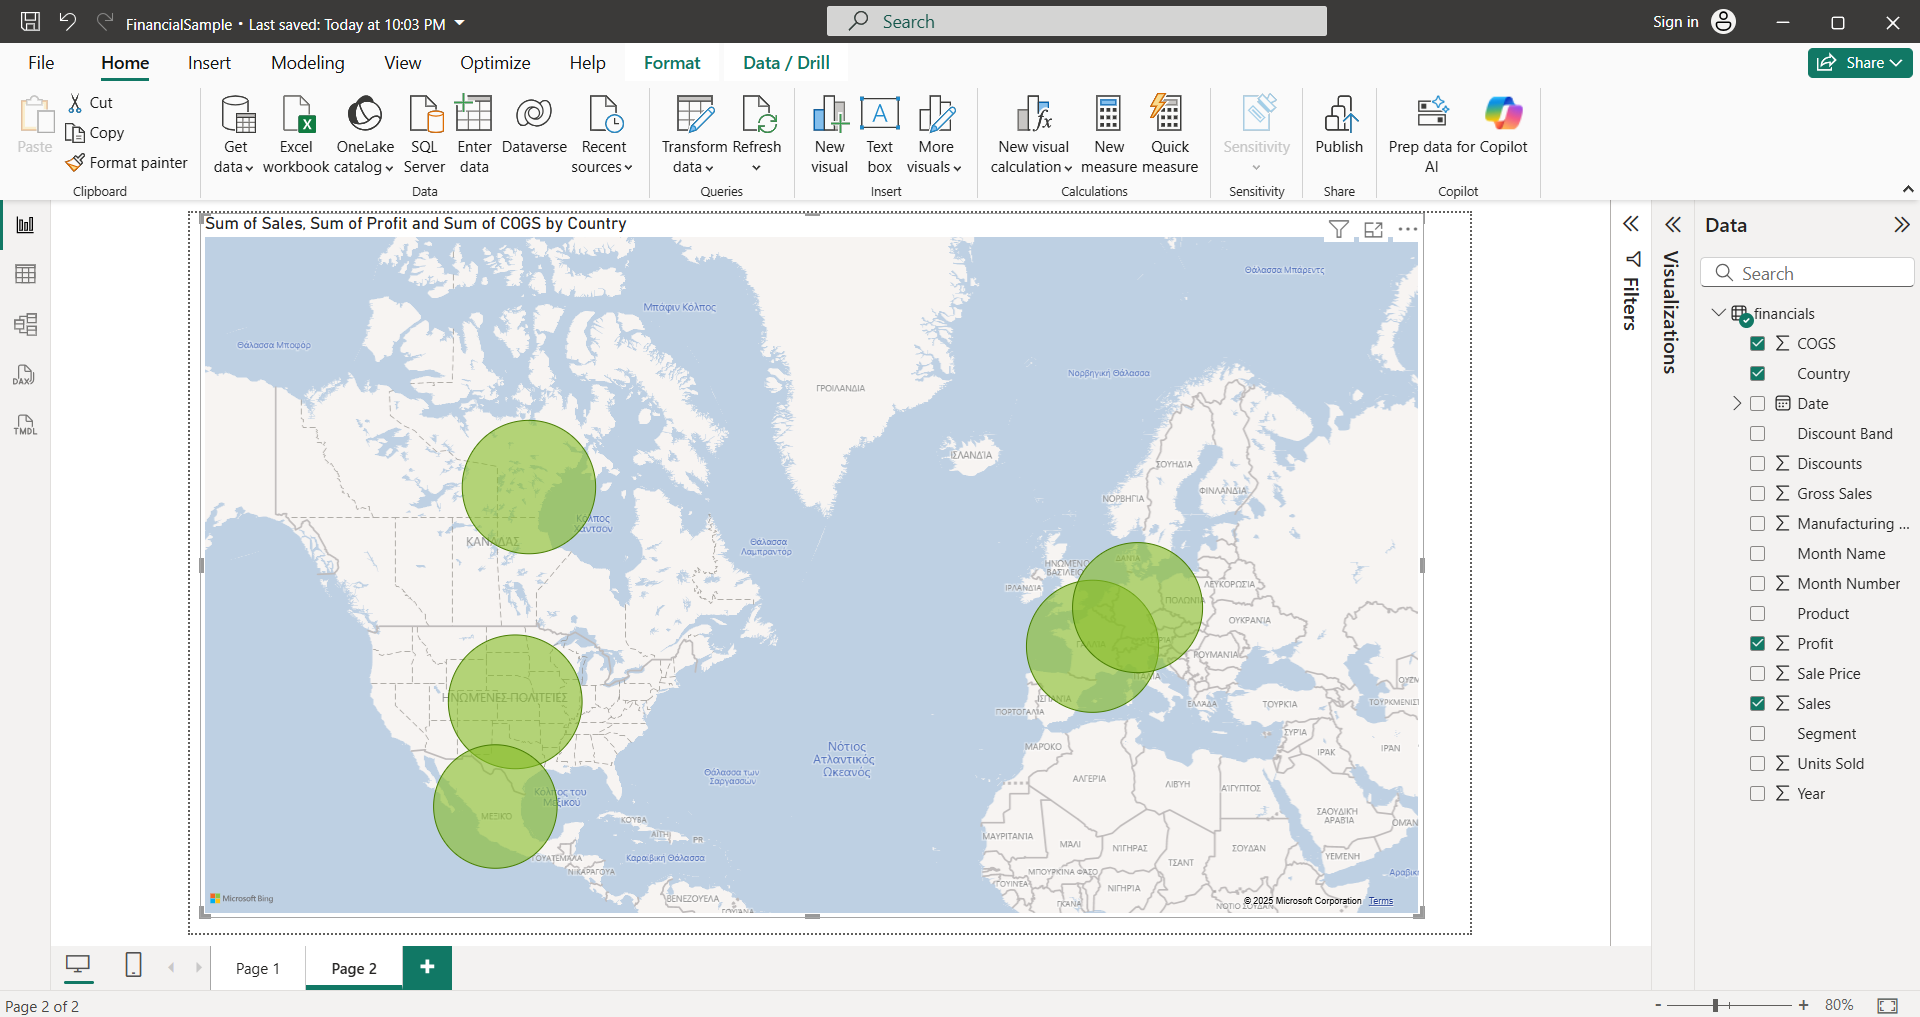

This screenshot's page, from the dashboard's own definition file:
{"tool":"powerbi","page":{"name":"Page 2","canvas":[1280,720],"ordinal":1},"visuals":[{"type":"map","fields":{"Category":["financials.Country"],"Size":["Sum(financials.Sales)"]},"box":[10,0,1223.3,705],"z":0}]}

Visuals, with their boxes on the page's 1280x720 design canvas (x1, y1, x2, y2). These are canvas units, not pixel positions in the 1920x1017 screenshot, which may show the page scaled, cropped or inside an application window:
map - financials.Country x Sum(financials.Sales): [x1=10, y1=0, x2=1233, y2=705]
